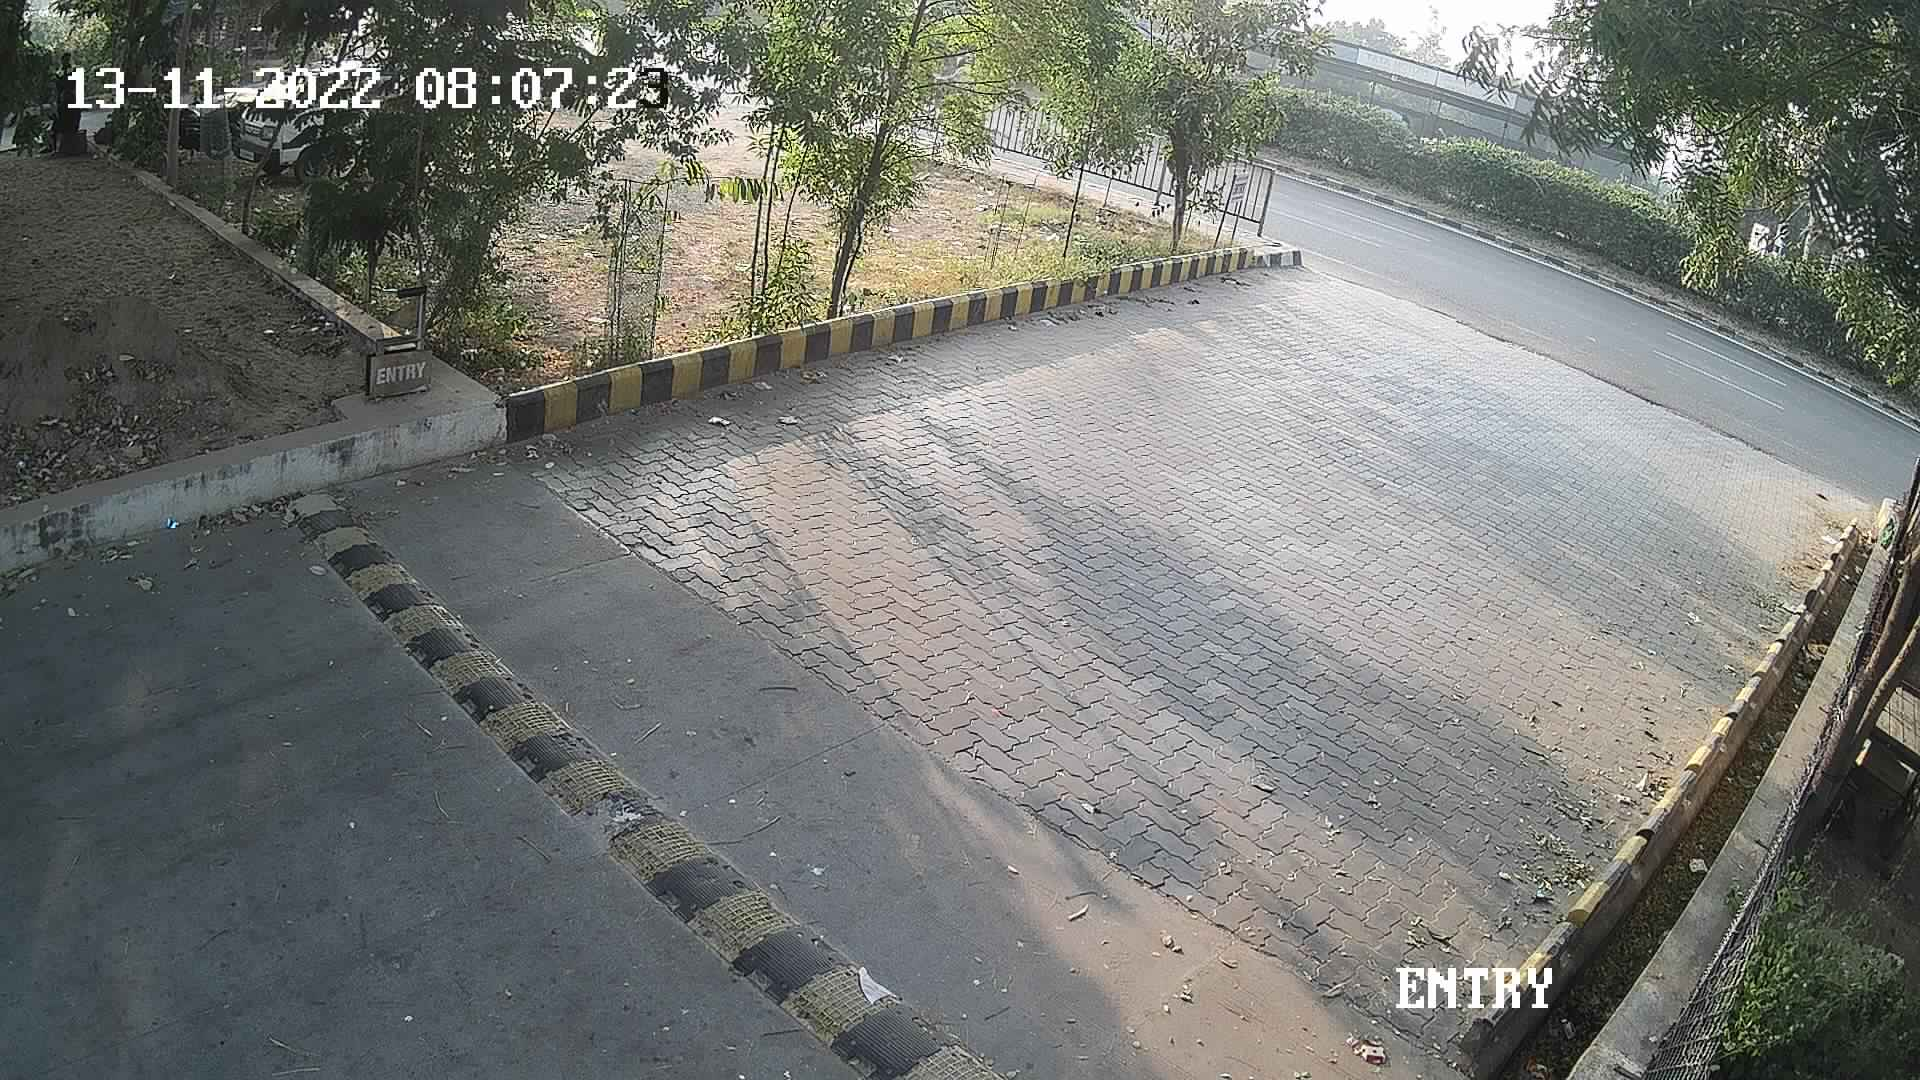Car: (226, 41, 360, 191)
